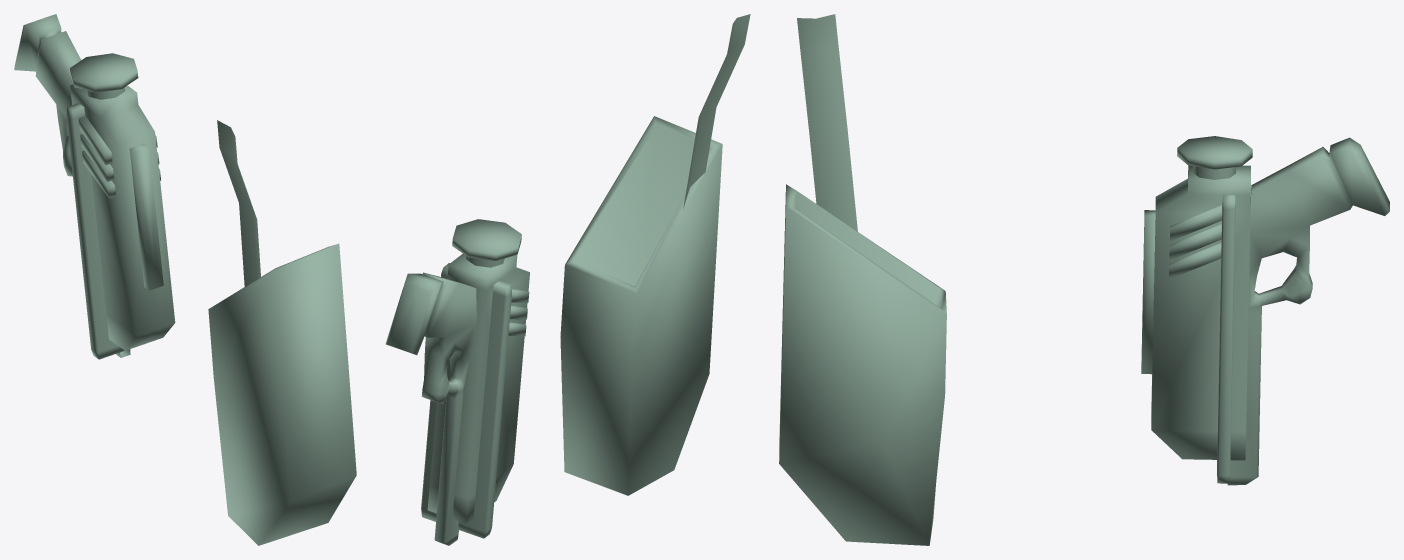
The model's file is holster.obj.
3 renders of one model, left to right at view 1: azimuth 30°, elevation 25°; view 2: azimuth 150°, elevation 25°; view 3: azimuth 270°, elevation 25°, orthographic. The views are drawn at different scales.
Visible parts, largest first — view 1: kama_holster_left; view 2: kama_holster_left; view 3: kama_holster_left.
Boxes of the visible parts, x1,y1,x2,y2 form: kama_holster_left: (14,14,356,545); kama_holster_left: (385,14,750,545); kama_holster_left: (779,14,1389,545).
Size of the model in its own units: 4.03 by 12.65 by 14.7.
